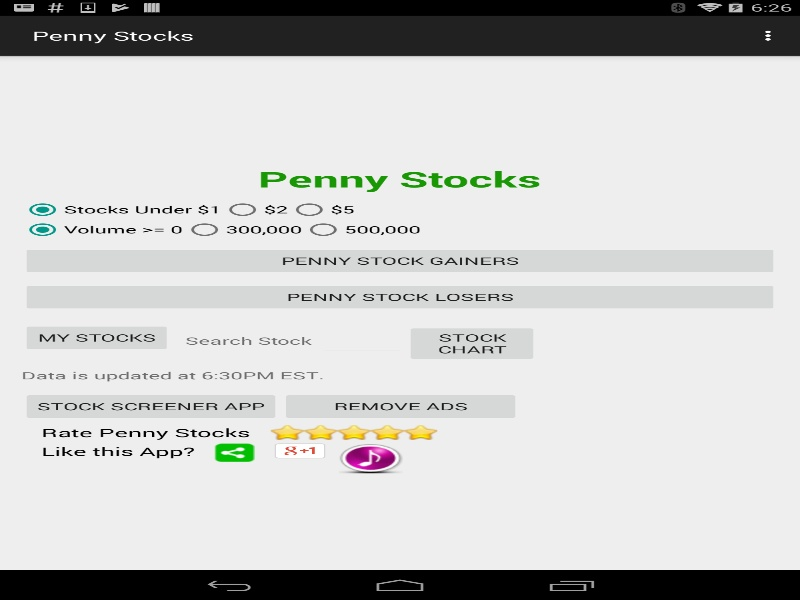Button: (21, 245, 778, 275), (21, 282, 778, 312), (21, 391, 280, 421), (280, 391, 520, 421), (405, 324, 538, 362), (21, 322, 172, 352), (250, 421, 437, 440), (338, 443, 402, 473), (214, 443, 254, 462)
Input: (318, 324, 405, 355)
